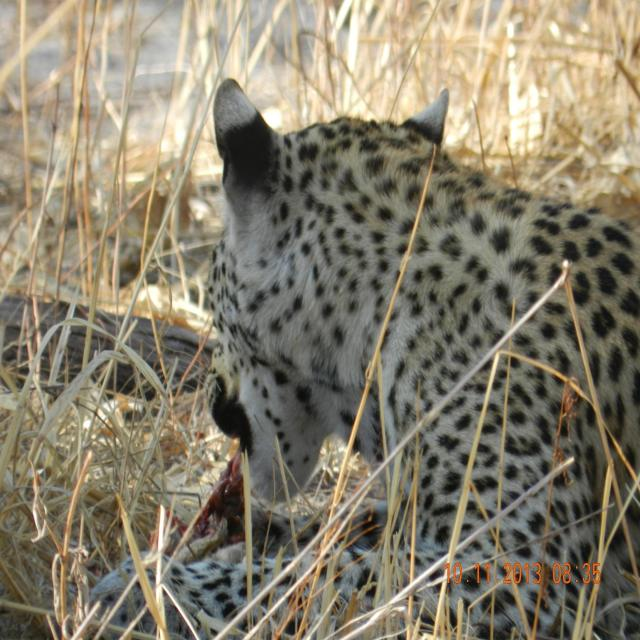Leopard: (87, 100, 640, 640)
